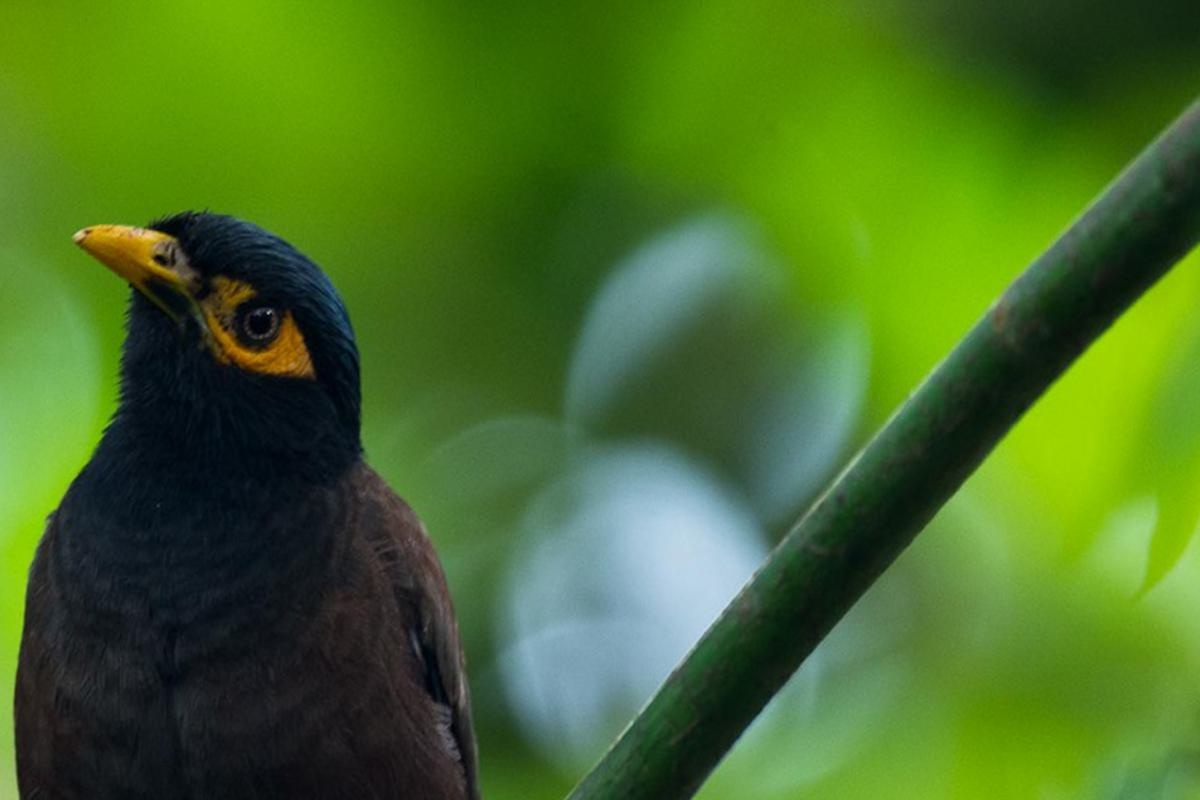myna: (26, 140, 543, 800)
